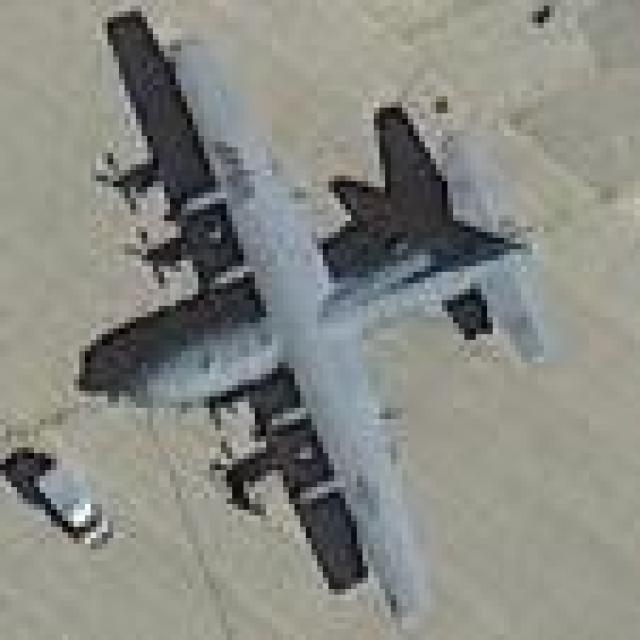C-130_TopDown: (68, 3, 559, 640)
